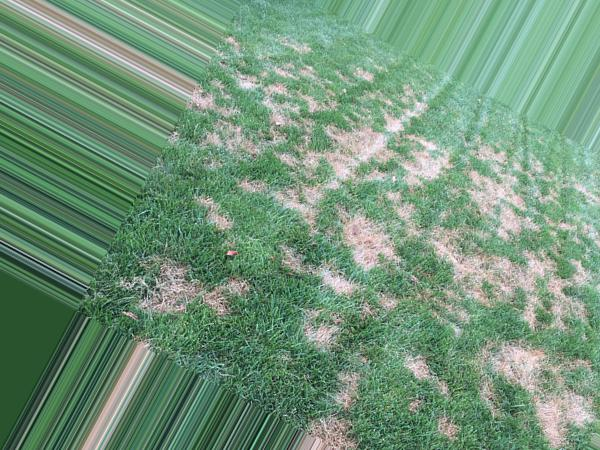patch: (278, 244, 359, 370), (314, 116, 433, 179), (306, 180, 394, 255), (304, 355, 395, 424), (451, 162, 526, 236), (520, 197, 578, 290), (152, 255, 230, 314), (453, 243, 508, 305), (250, 74, 305, 127), (490, 326, 532, 373), (204, 192, 242, 242), (461, 135, 505, 174), (204, 124, 248, 161), (222, 64, 245, 127), (347, 61, 379, 87), (403, 85, 432, 112), (270, 31, 294, 49)
